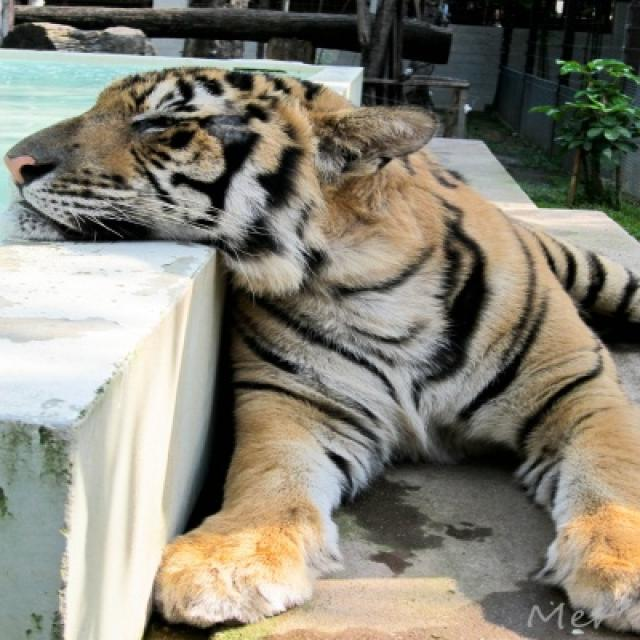Tiger: (6, 69, 638, 632)
